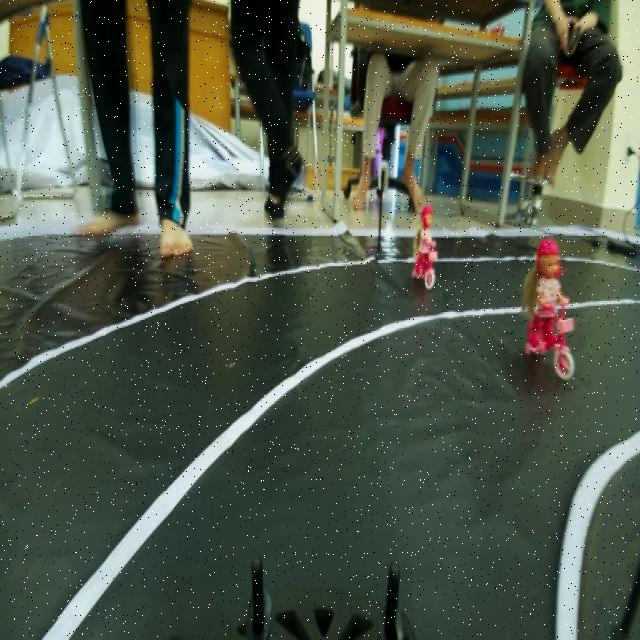pedestrian: (510, 223, 580, 392), (401, 201, 451, 295)
